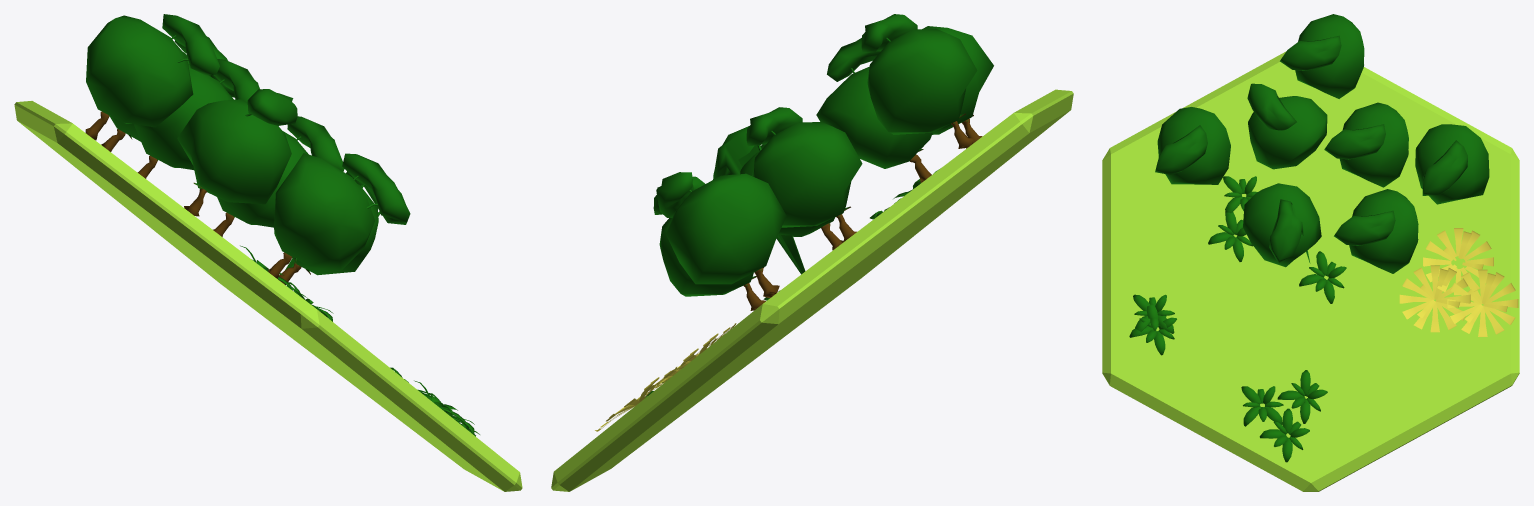
The picture shows the model from 3 angles, left to right: view 1: azimuth 30°, elevation 25°; view 2: azimuth 150°, elevation 25°; view 3: azimuth 270°, elevation 25°; orthographic projection. The views are drawn at different scales.
Visible parts, largest first — view 1: Cylinder.001; view 2: Cylinder.001; view 3: Cylinder.001.
Boxes of the visible parts, bbox=[...] form: Cylinder.001: bbox=[14, 14, 522, 491]; Cylinder.001: bbox=[551, 14, 1073, 491]; Cylinder.001: bbox=[1102, 14, 1519, 491].
Size of the model in its own units: 326 by 380 by 398.
